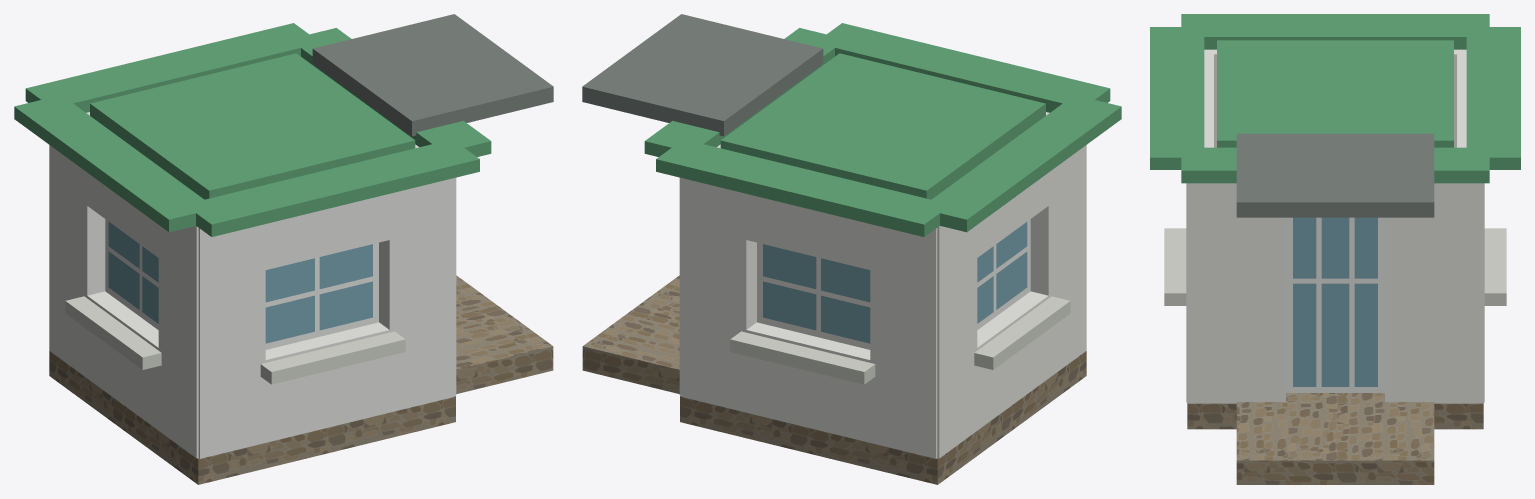
3 views of the same model, side by side, from view 1: azimuth 30°, elevation 25°; view 2: azimuth 150°, elevation 25°; view 3: azimuth 270°, elevation 25° (orthographic).
Visible parts, largest first — view 1: guard__panel, guard__green, guard__entrance, guard__stone, guard__glass, guard__threshold-front, guard__sill, guard__frame; view 2: guard__panel, guard__green, guard__entrance, guard__stone, guard__glass, guard__threshold-front, guard__sill, guard__frame; view 3: guard__green, guard__panel, guard__threshold-front, guard__entrance, guard__glass, guard__frame, guard__sill, guard__stone.
Boxes of the visible parts, x1,y1,x2,y2 form: guard__panel: [49, 112, 456, 458]; guard__green: [14, 23, 491, 236]; guard__entrance: [312, 14, 553, 136]; guard__stone: [49, 351, 455, 484]; guard__glass: [108, 222, 372, 343]; guard__threshold-front: [456, 275, 553, 393]; guard__sill: [65, 296, 405, 384]; guard__frame: [105, 219, 378, 349]; guard__panel: [679, 112, 1086, 458]; guard__green: [644, 23, 1121, 236]; guard__entrance: [582, 14, 823, 136]; guard__stone: [680, 351, 1086, 484]; guard__glass: [763, 222, 1027, 343]; guard__threshold-front: [582, 275, 679, 393]; guard__sill: [730, 296, 1070, 384]; guard__frame: [757, 219, 1030, 349]; guard__green: [1150, 14, 1520, 183]; guard__panel: [1186, 49, 1484, 403]; guard__threshold-front: [1236, 393, 1434, 484]; guard__entrance: [1236, 133, 1434, 217]; guard__glass: [1293, 217, 1377, 386]; guard__frame: [1286, 217, 1384, 392]; guard__sill: [1164, 228, 1506, 305]; guard__stone: [1187, 402, 1483, 429].
Size of the model in its own units: 4.8 by 3.2 by 3.75.
7 materials, 1 textured.
